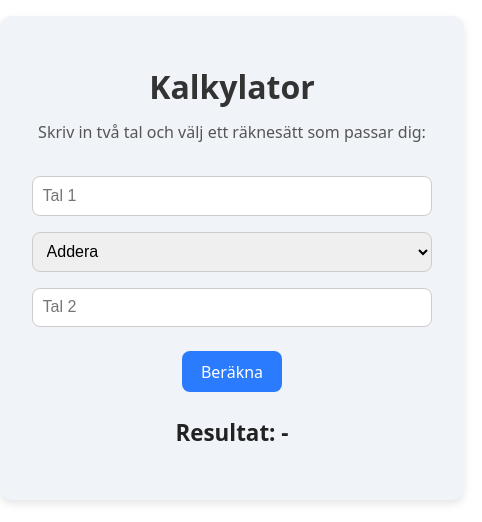
Scenario: Calculator › lägger ihop två tal korrekt
Type "5" into the number field with placeholder "Tal 1" at point(232, 196), box [32,176,432,216]
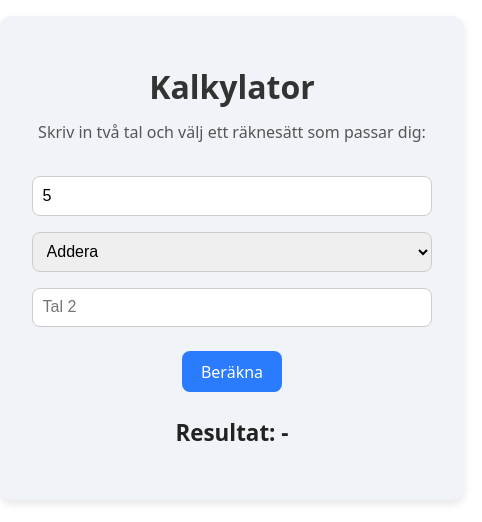
Type "3" into the number field with placeholder "Tal 2" at point(232, 307), box [32,288,432,327]
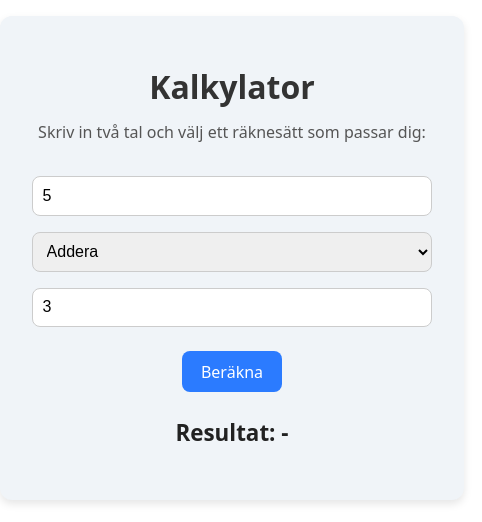
Select "Addera" in the dropdown at point(232, 252), box [32,232,432,272]
Click the button "Beräkna" at point(232, 372), box [182,351,282,392]
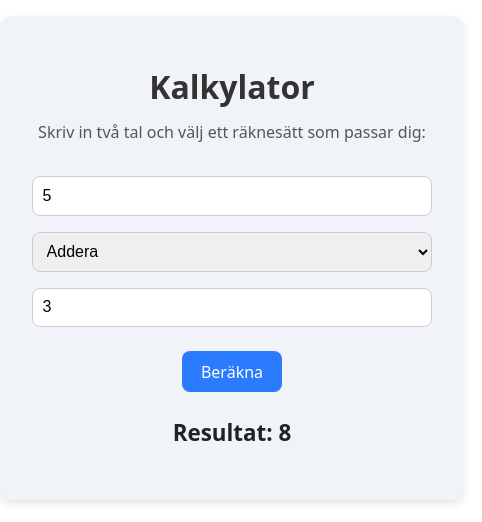
expect the heading "Resultat: 8" is shown: met, box [173,417,291,448]
